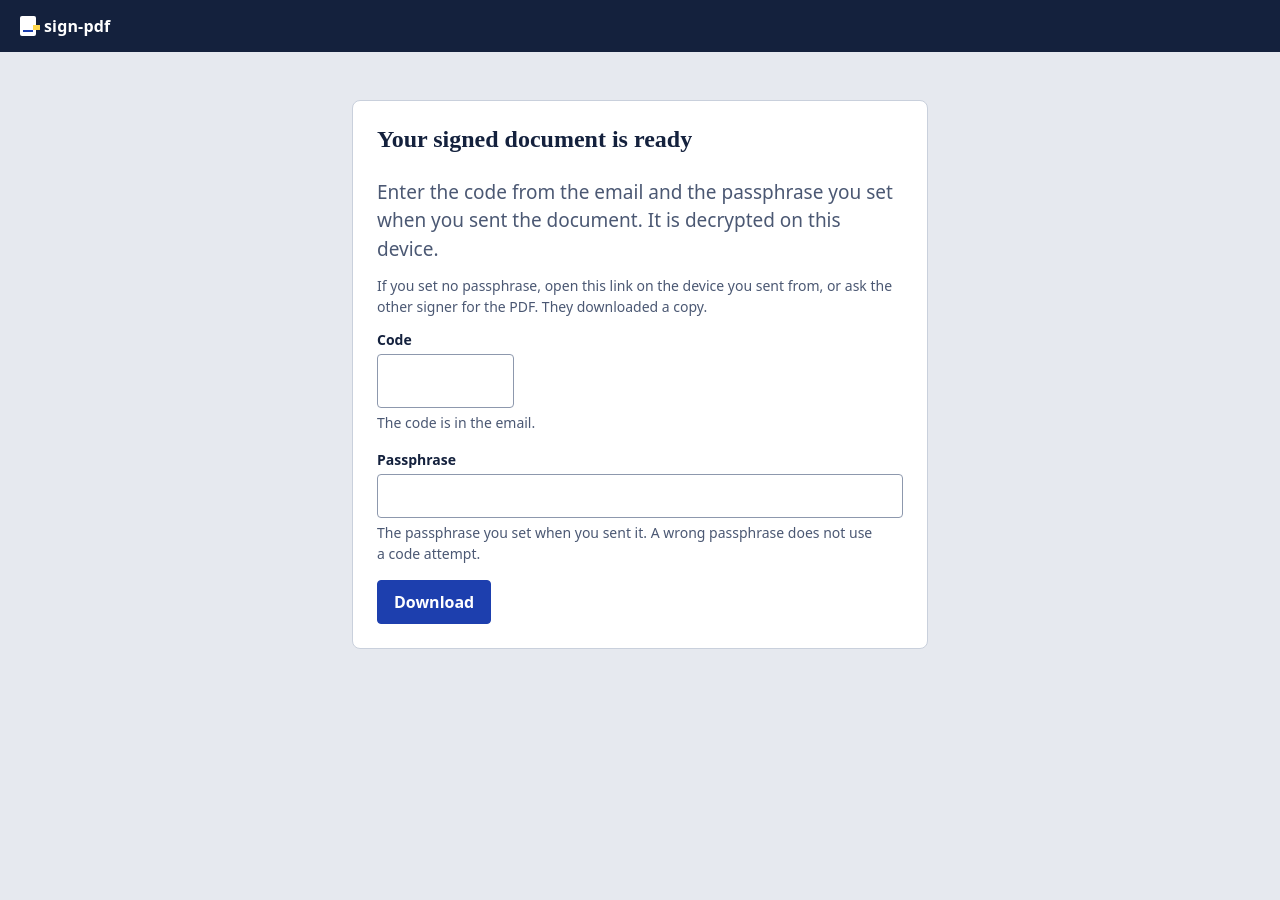
Test: collect the signed PDF › on a device without the kept key (issue #105) › says to use the sending device or ask the other signer when there is no wrapped key
The image size is (1280, 900).
Step 1. Type "123456" into the field with test id "relay-collect-code" → {"x": 446, "y": 381}, box [377, 354, 514, 408]
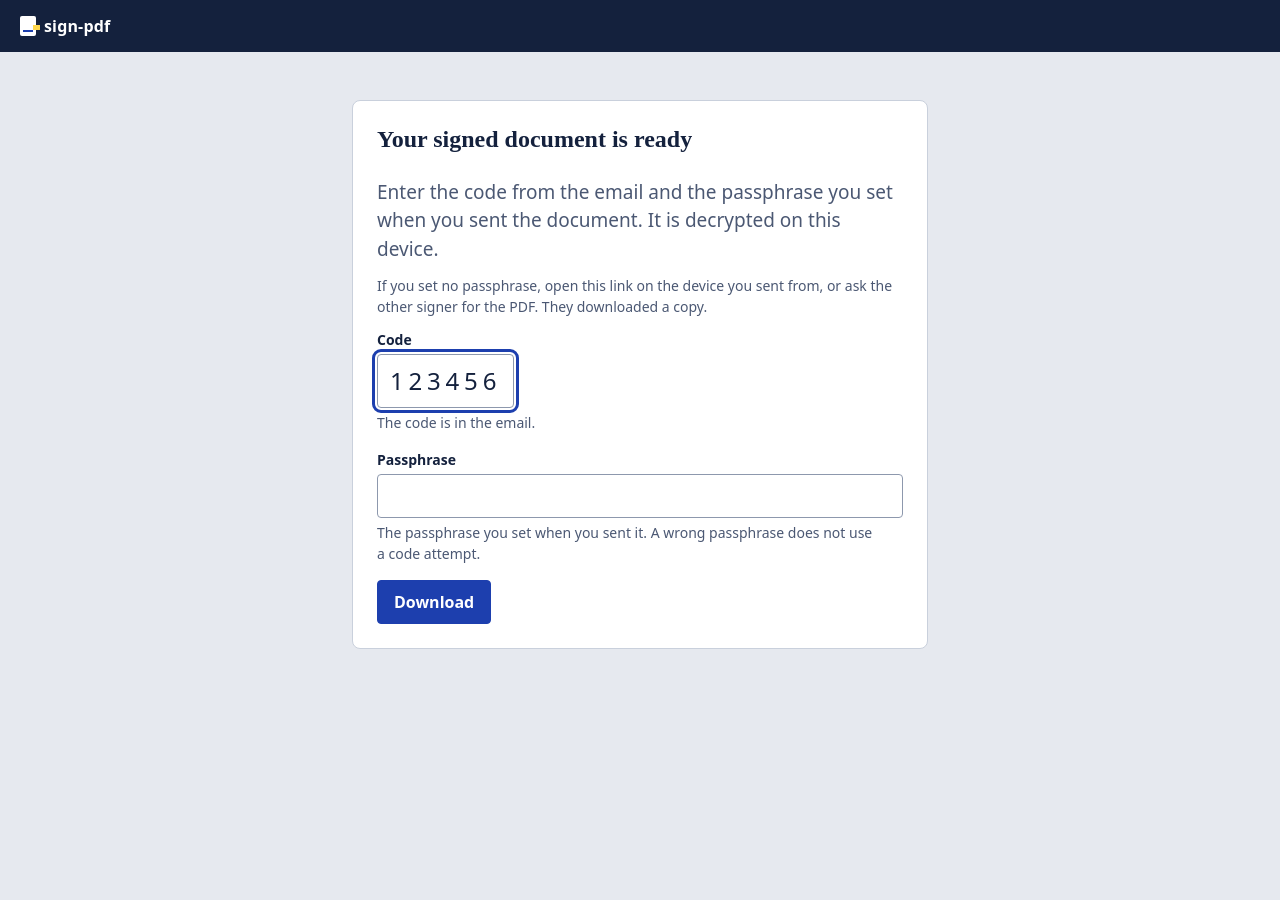
Step 2. Type "anything at all" into the password field with test id "relay-collect-password" → {"x": 640, "y": 496}, box [377, 474, 903, 518]
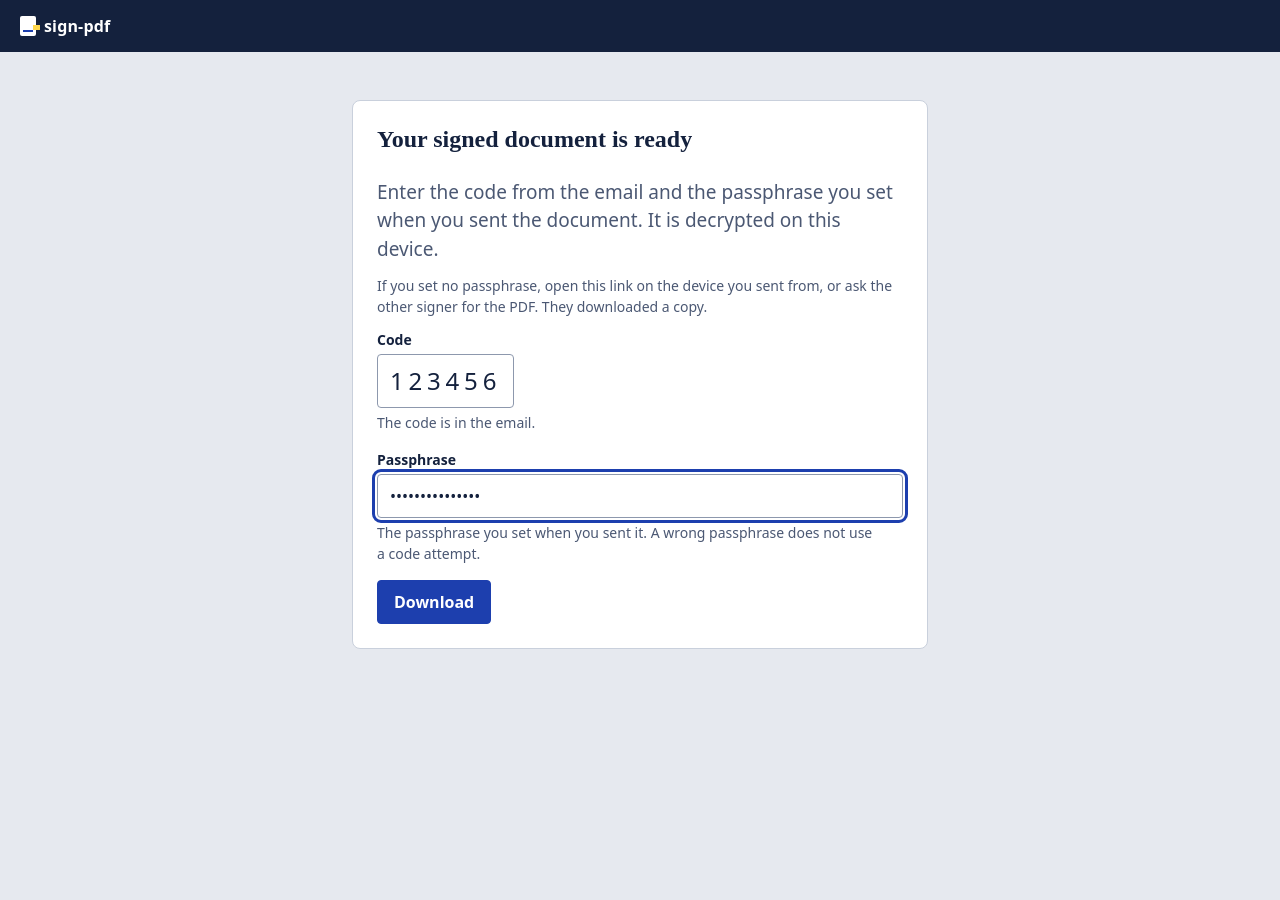
Step 3. Click the button with test id "relay-collect-button" → {"x": 434, "y": 602}, box [377, 580, 491, 624]
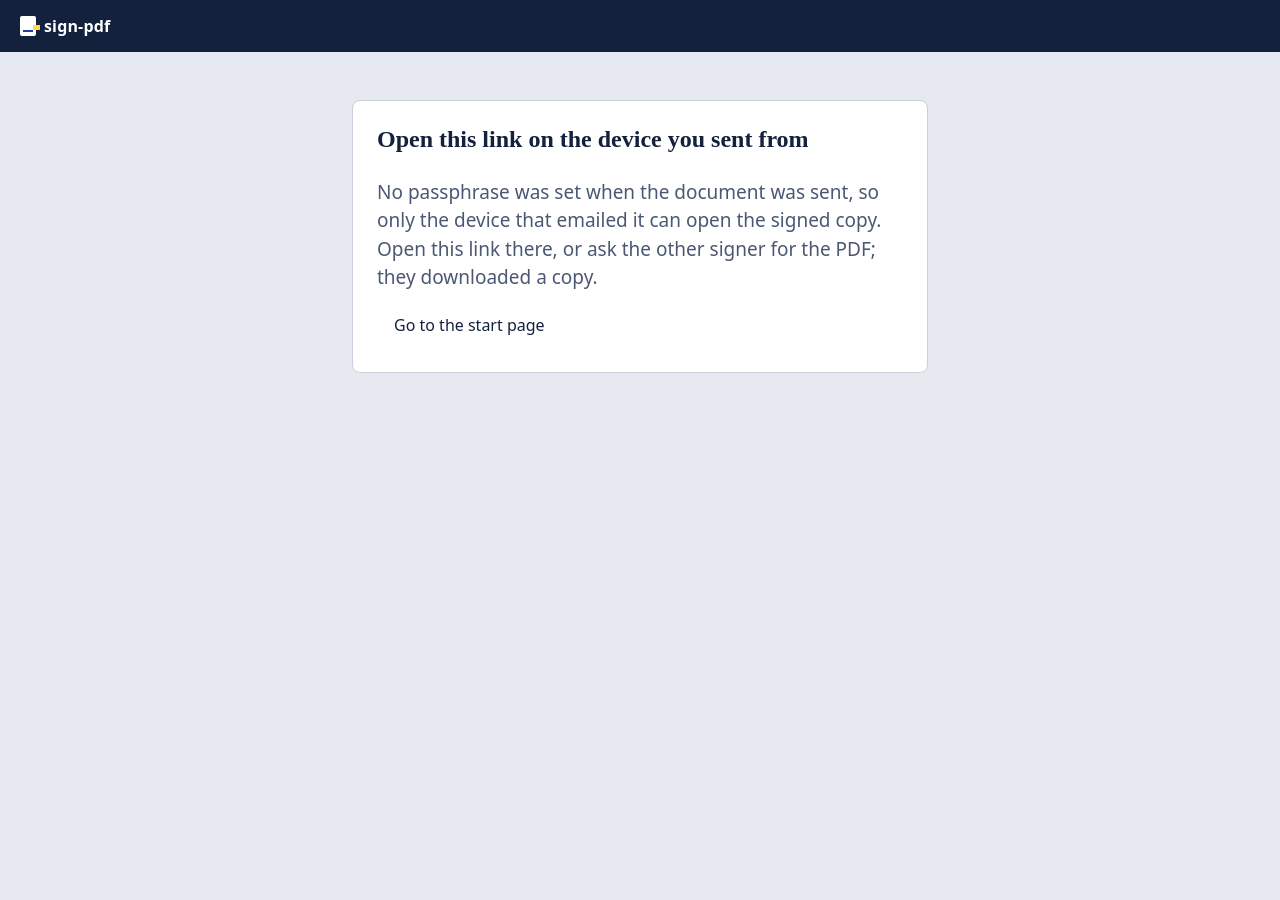
Expected: the element with test id "relay-collect-nokey" shows "Open this link there, or ask the other signer for the PDF; they downloaded a copy.", [377, 179, 881, 290]
